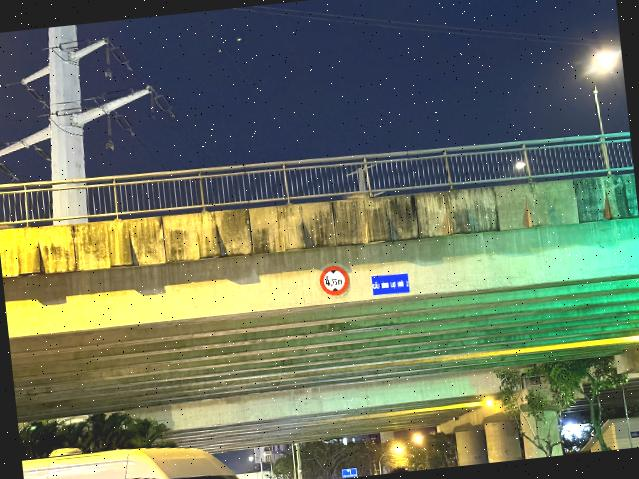han-che-chieu-cao: (318, 264, 351, 297)
